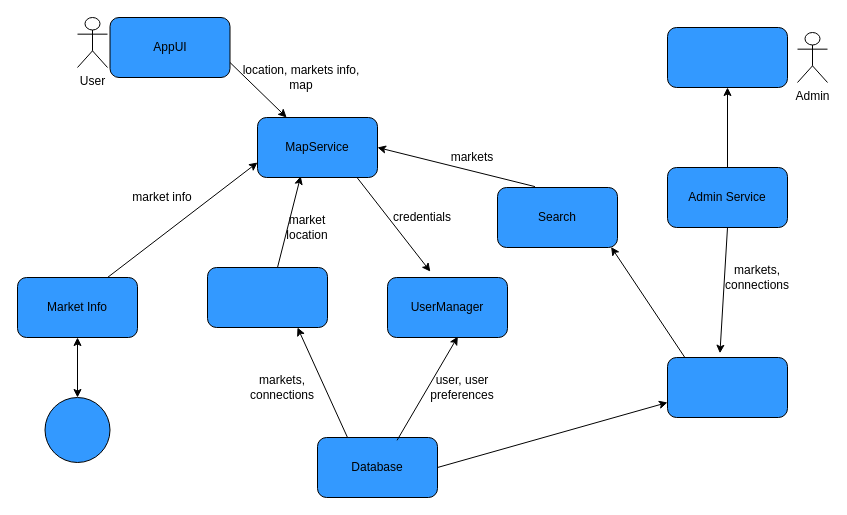
The diagram is 847 pixels wide and 515 high, and some of its shapes have lost their labels. Each missing label, with the centre of its shape:
Admin Panel: point 727,57
External System: point 77,429
Geoinformation Manager: point 727,387
LocationFinder: point 267,297
